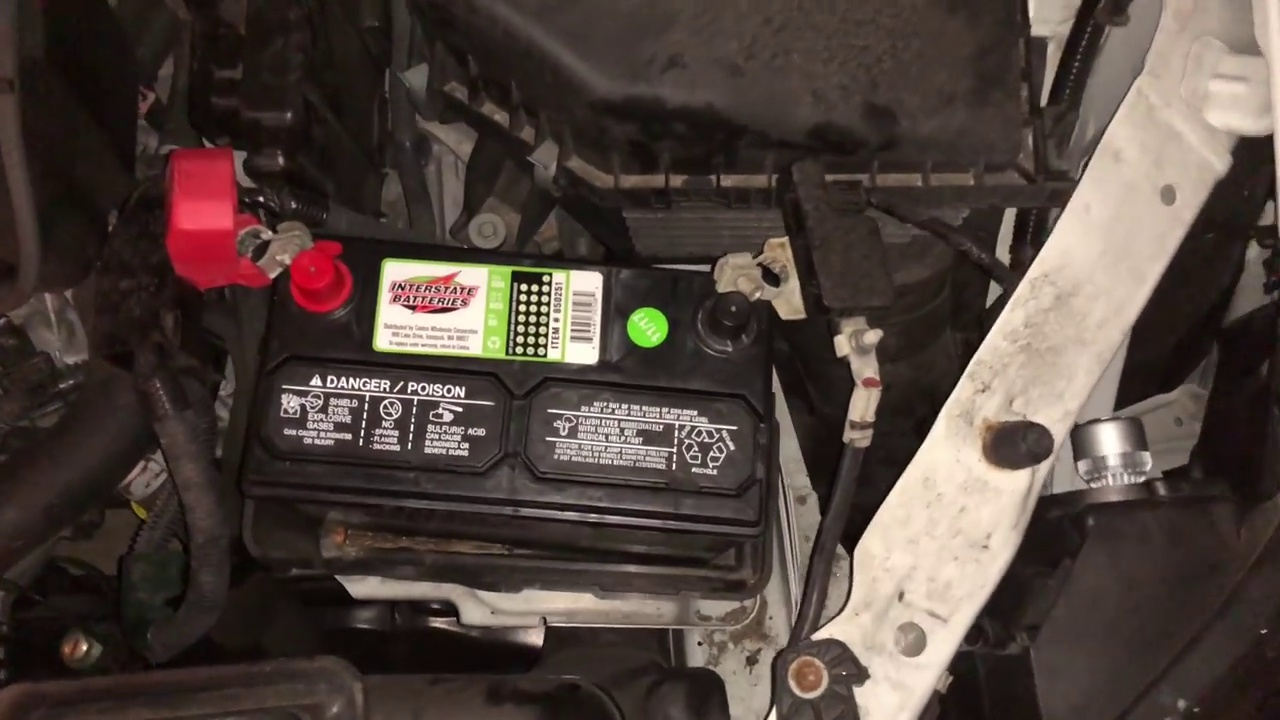battery: (235, 208, 773, 572)
neg_disconnected: (662, 198, 808, 373)
pos_disconnected: (173, 190, 350, 340)
